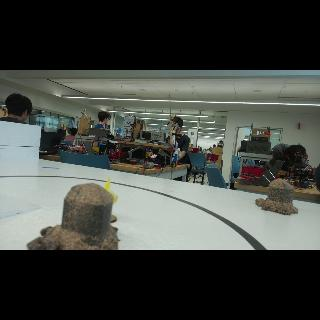teletubby: (105, 177, 118, 204)
